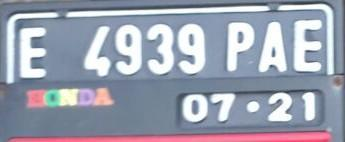clone-license-plate: (6, 5, 335, 130)
